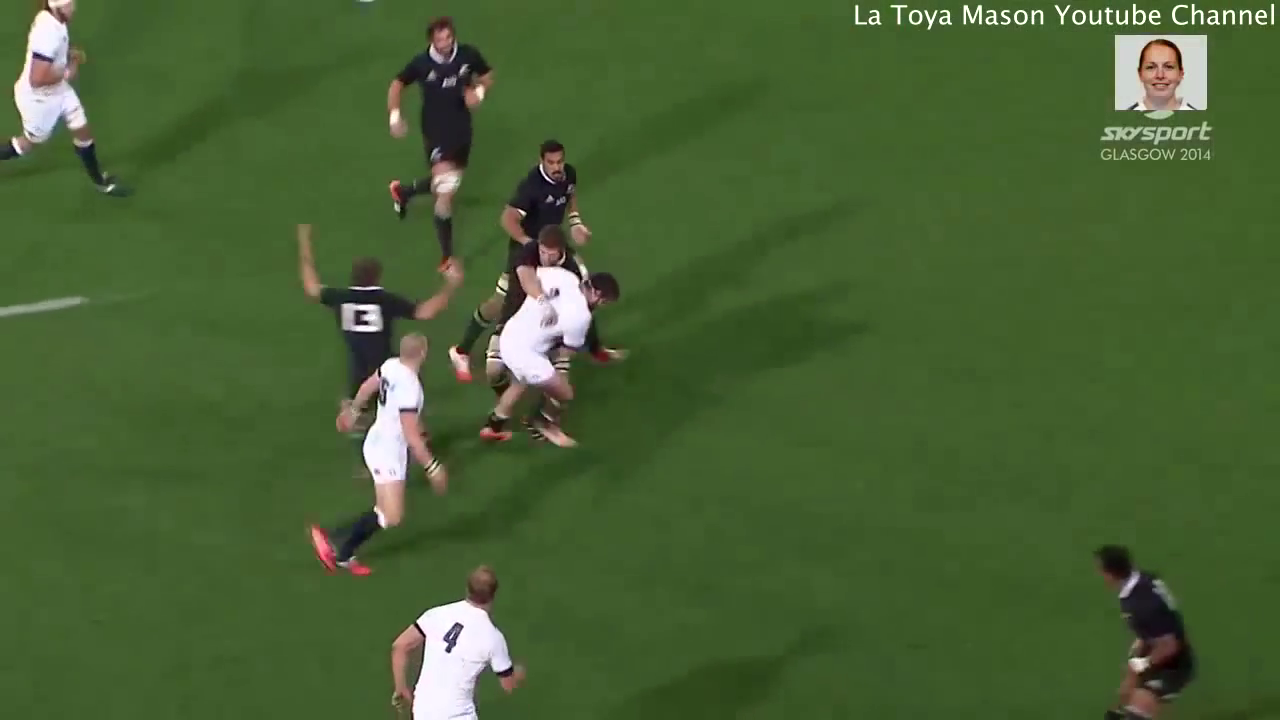player: (438, 130, 642, 388), (289, 328, 453, 595), (284, 209, 470, 419), (373, 8, 501, 293), (460, 257, 622, 461), (1, 1, 141, 206), (367, 557, 542, 720), (1069, 531, 1214, 720), (488, 219, 601, 327)
